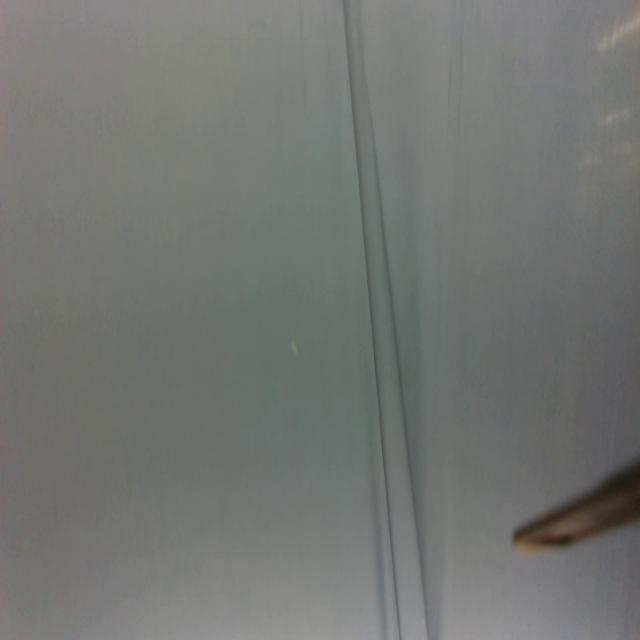crease: (341, 0, 430, 640)
hole: (289, 340, 300, 360)
